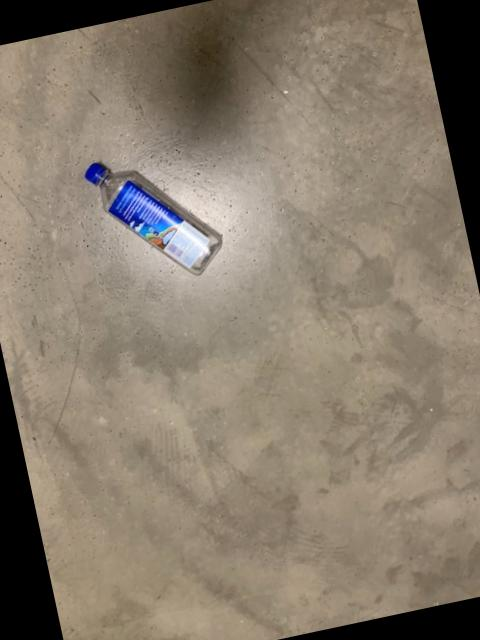plastic: (86, 160, 221, 271)
